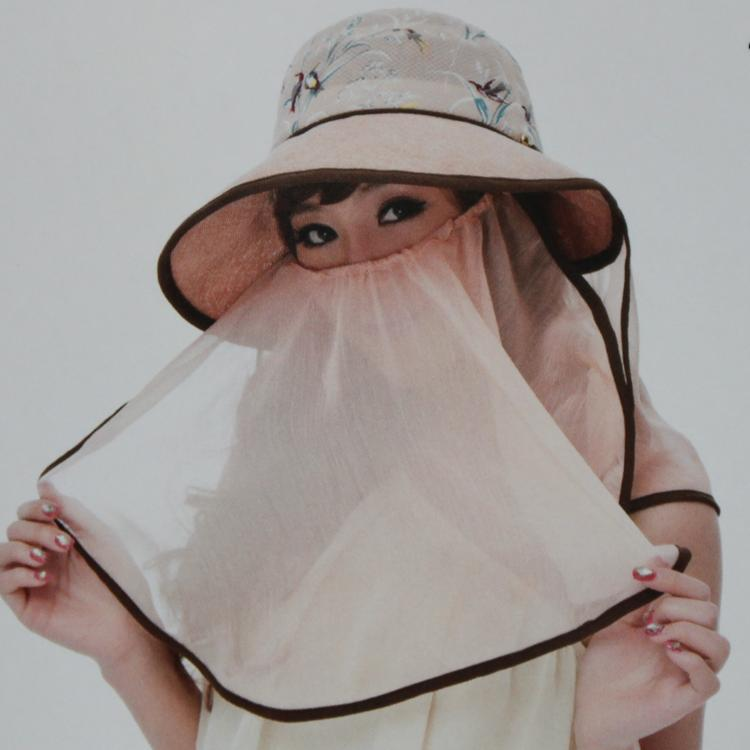face: (283, 191, 467, 356)
